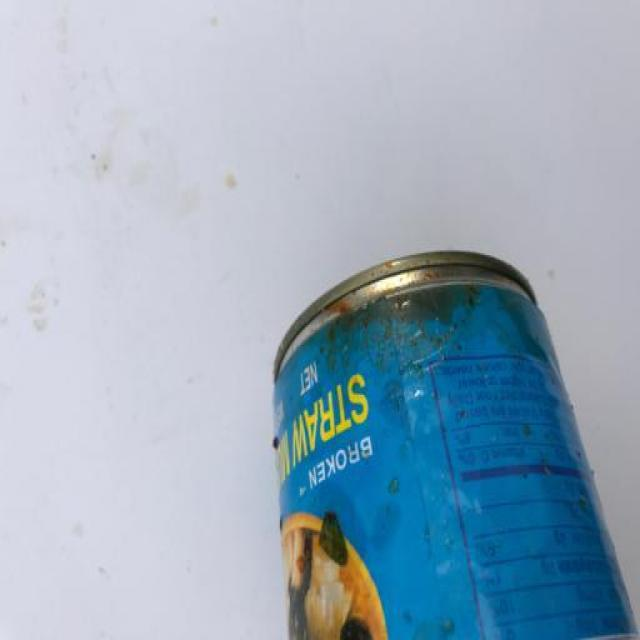metel: (258, 247, 640, 640)
